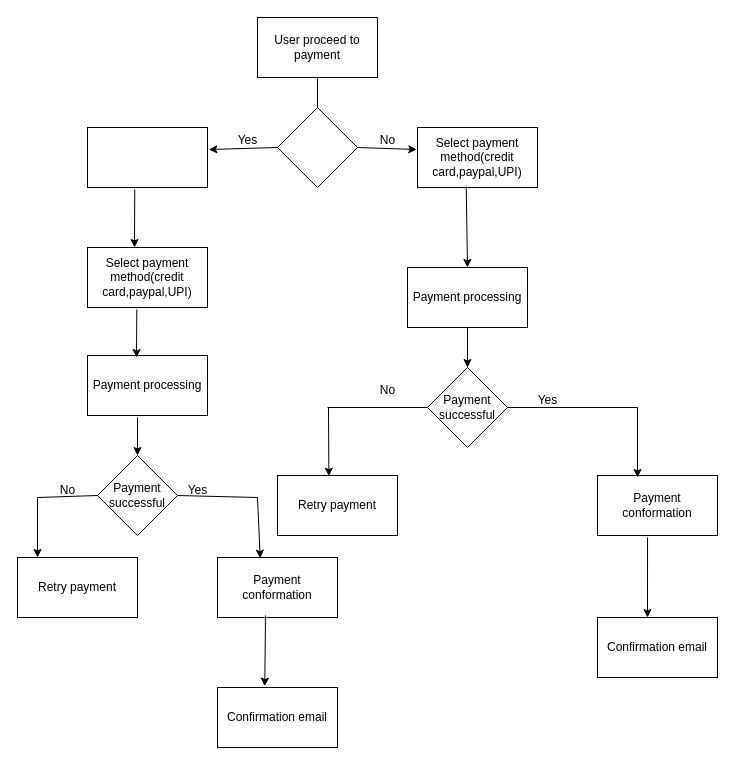
The diagram is 735 pixels wide and 765 high, and some of its shapes have lost their labels. The shapes that lost their labels are listed below. From the top down, each one's box as (x1, y1, x2, y2) in pixels, then its label:
(86, 126, 208, 188): Apply refferal points
(276, 106, 358, 188): Add refferal points
